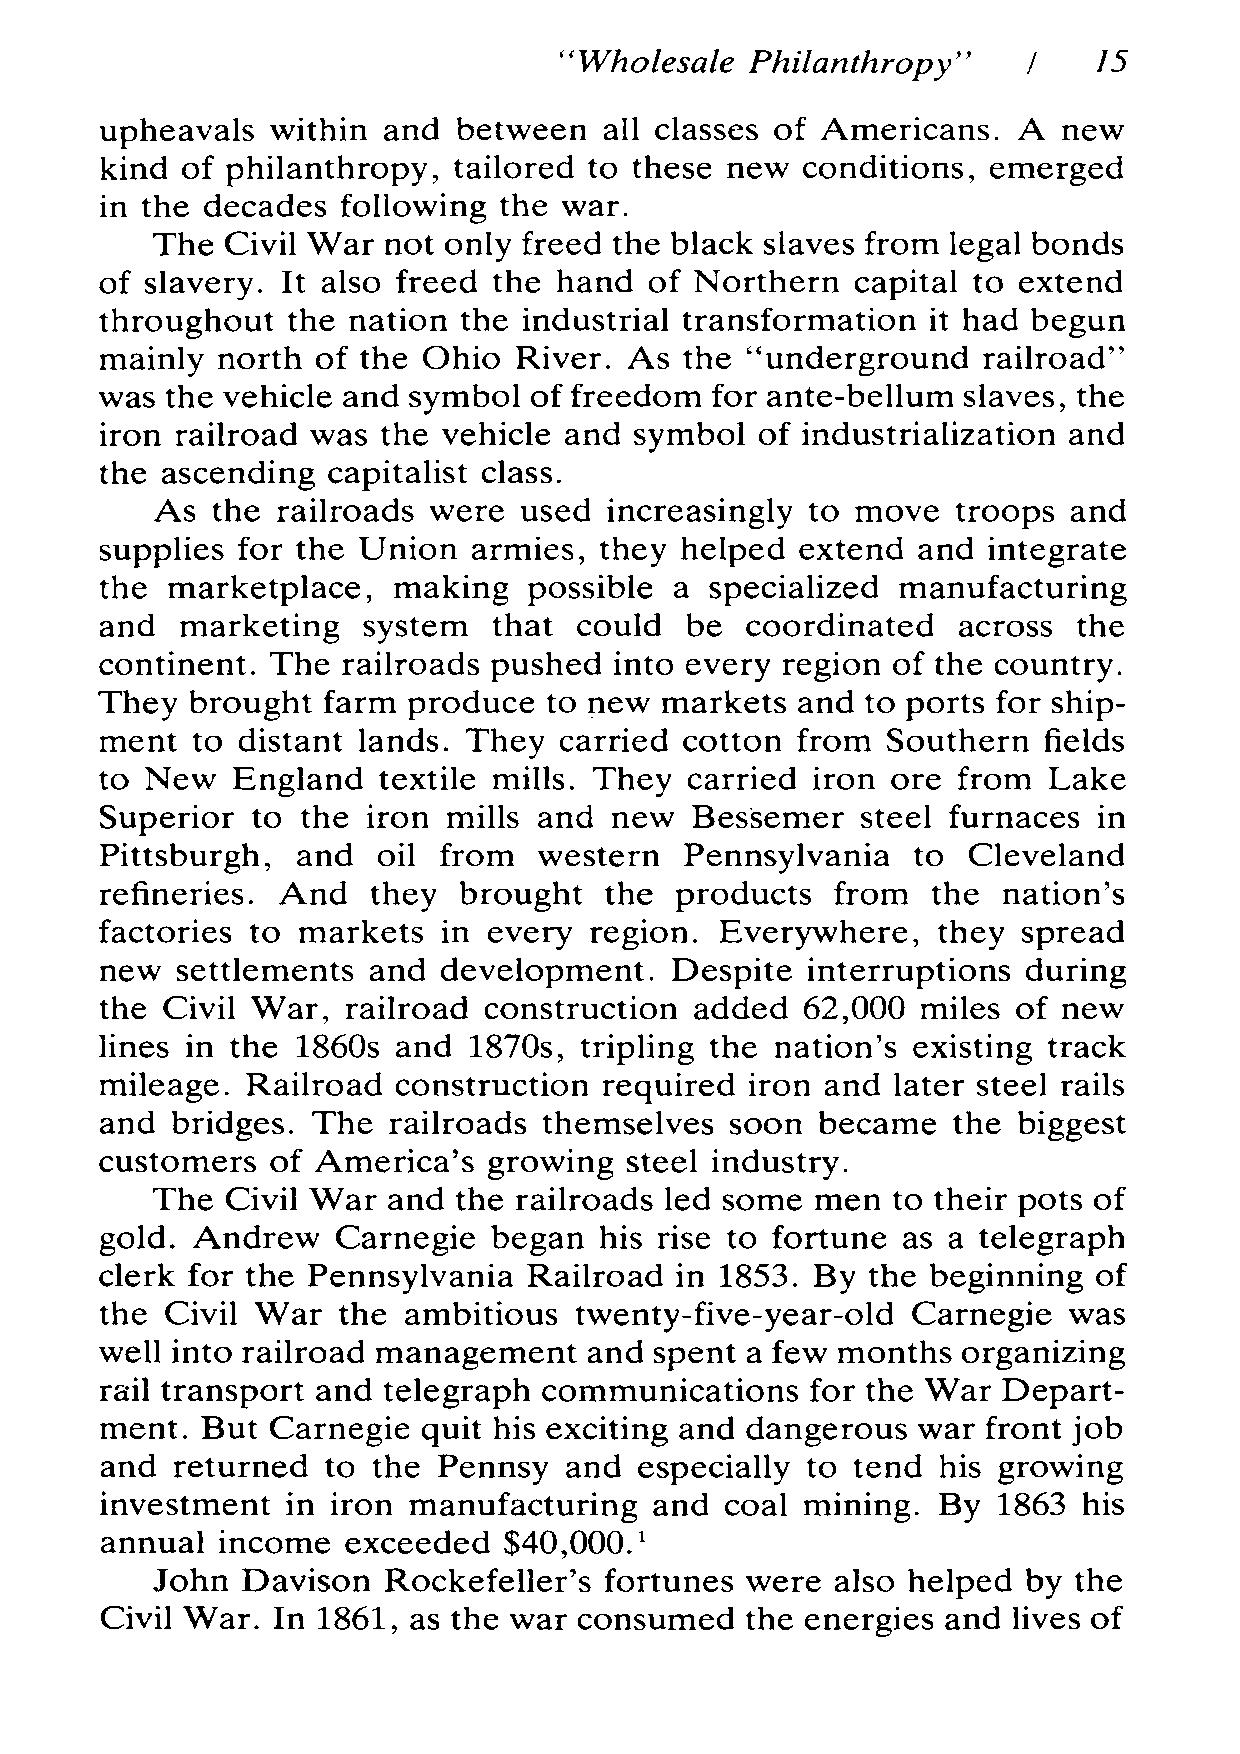content: (93, 114, 1131, 1639)
content_chapter: (556, 43, 972, 82)
content_pagenumber: (1091, 43, 1131, 83)
